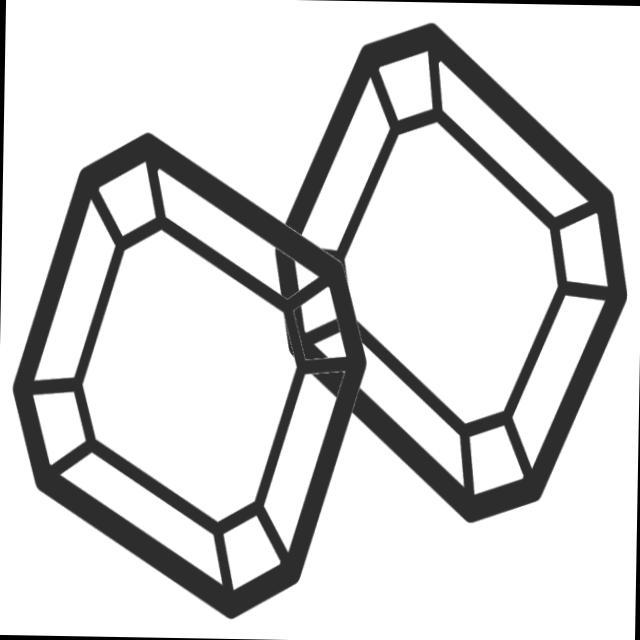emerald: (265, 15, 640, 531), (6, 126, 372, 628)
